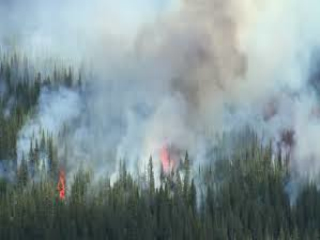fire: (156, 145, 181, 181), (52, 173, 72, 203)
smoke: (134, 4, 312, 152), (16, 67, 136, 171)
